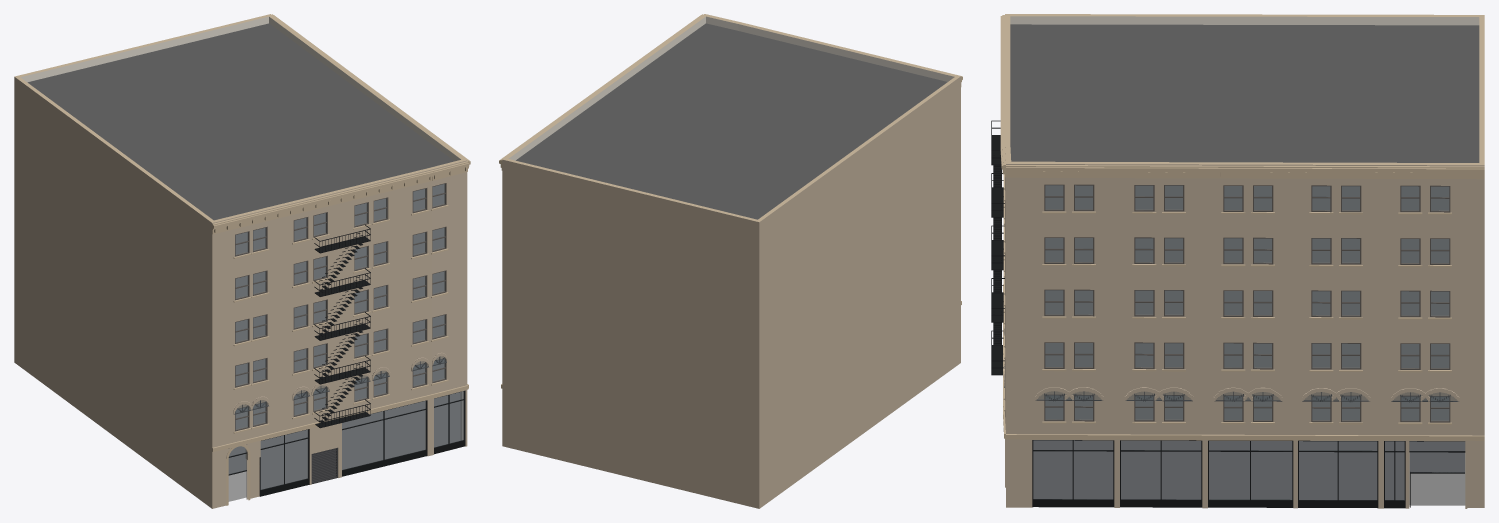
The model's file is exterior.glb.
3 views of the same model, side by side, from view 1: azimuth 30°, elevation 25°; view 2: azimuth 150°, elevation 25°; view 3: azimuth 270°, elevation 25° (orthographic). The views are drawn at different scales.
Parts seen in each view (by area): view 1: shell, roof, glazing, shadow-proxy, trim, frames, fire-escape, storefront, arch-heads-3; view 2: shell, roof, trim; view 3: shell, roof, glazing, shadow-proxy, trim, frames, storefront, arch-heads-0, fire-escape.
Boxes of the visible parts, x1,y1,x2,y2 form: shell: (14, 14, 467, 508); roof: (27, 23, 454, 220); glazing: (228, 184, 464, 489); shadow-proxy: (228, 184, 460, 501); trim: (212, 14, 470, 451); frames: (235, 183, 446, 431); fire-escape: (314, 224, 370, 428); storefront: (228, 390, 465, 499); arch-heads-3: (233, 357, 429, 414); shell: (502, 14, 960, 508); roof: (516, 23, 947, 219); trim: (499, 14, 962, 388); shell: (1005, 14, 1484, 508); roof: (1010, 24, 1479, 162); glazing: (1033, 185, 1465, 500); shadow-proxy: (1033, 185, 1465, 505); trim: (1000, 15, 1484, 440); frames: (1044, 184, 1450, 422); storefront: (1032, 440, 1484, 508); arch-heads-0: (1035, 387, 1459, 402); fire-escape: (991, 120, 1004, 375).
Size of the model in its own units: 23.19 by 24.26 by 31.56.
